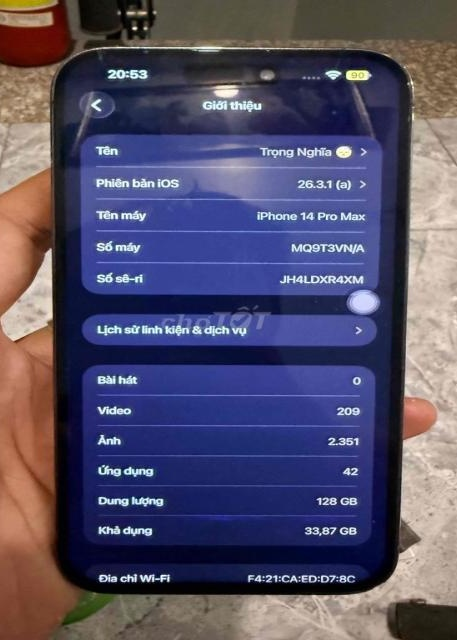scratch: (87, 38, 196, 58)
